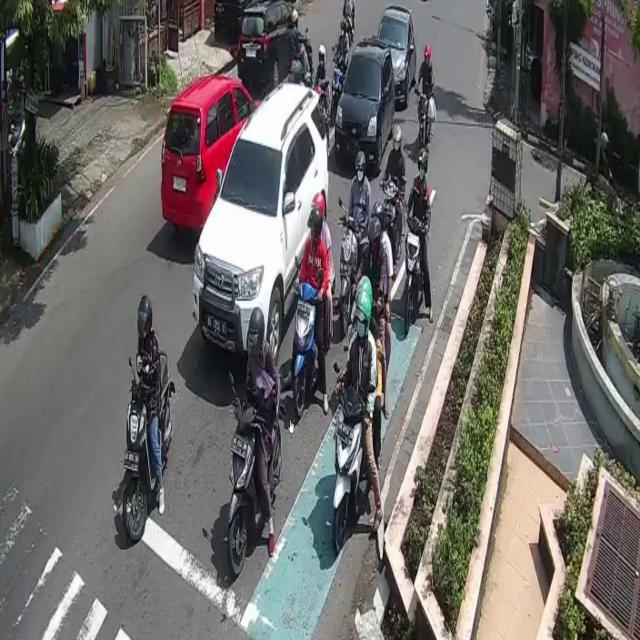car: (192, 80, 328, 374), (160, 75, 261, 227), (334, 39, 395, 177), (239, 0, 299, 87), (374, 5, 417, 107)
motorbike: (228, 375, 280, 578), (128, 350, 174, 541), (334, 386, 366, 552), (296, 280, 318, 417), (404, 213, 426, 335), (338, 216, 358, 335), (418, 95, 428, 160)
